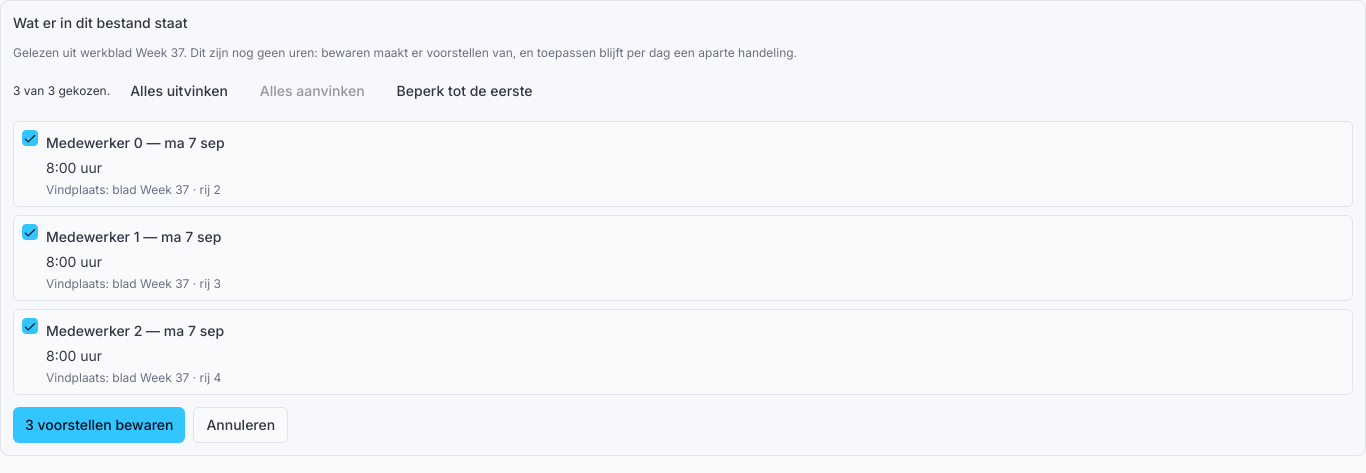
Test case: narrowing down a large reading › lets the reviewer clear the whole selection in one act
The image size is (1366, 473).
expect the text "3 van 3 gekozen." is shown: met, box [13,83,110,99]
Click the button "Alles uitvinken" at point(179, 91), box [118,73,240,109]
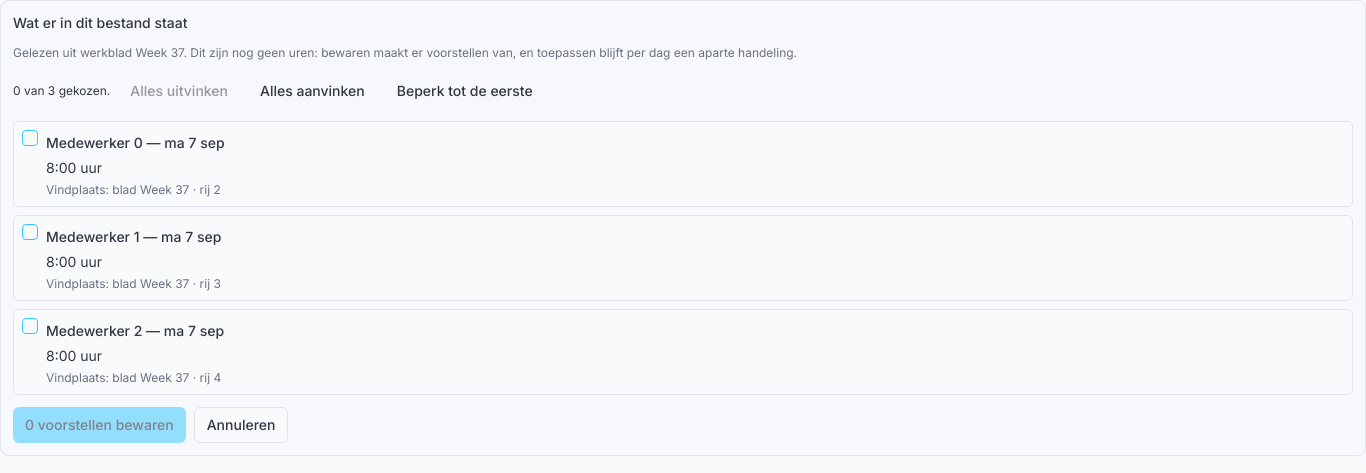
expect the text "0 van 3 gekozen." is shown: met, box [13,83,110,99]
Click the button "Alles aanvinken" at point(312, 91), box [248,73,377,109]
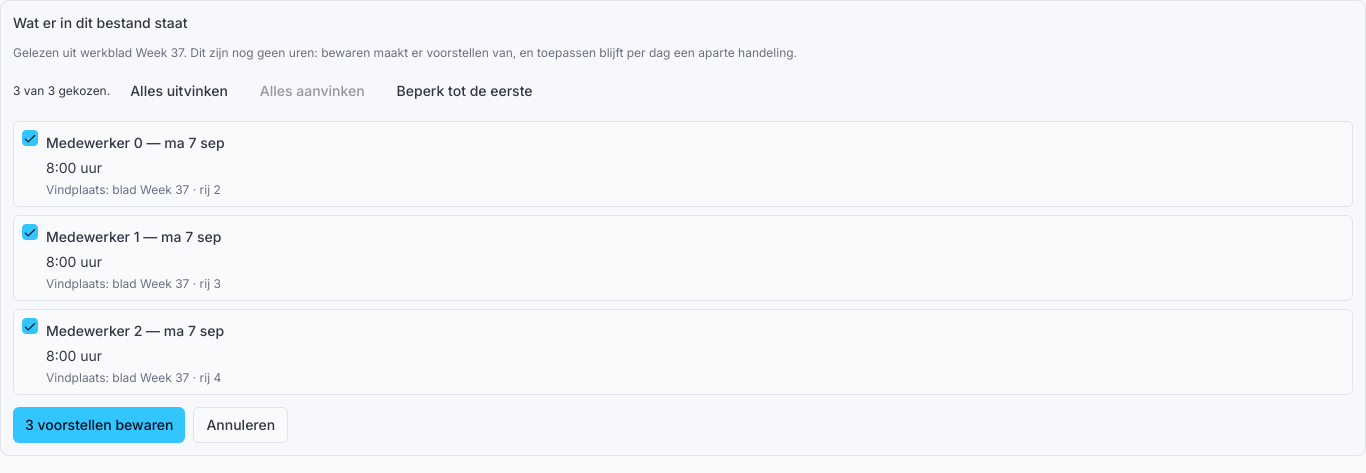
expect the text "3 van 3 gekozen." is shown: met, box [13,83,110,99]
